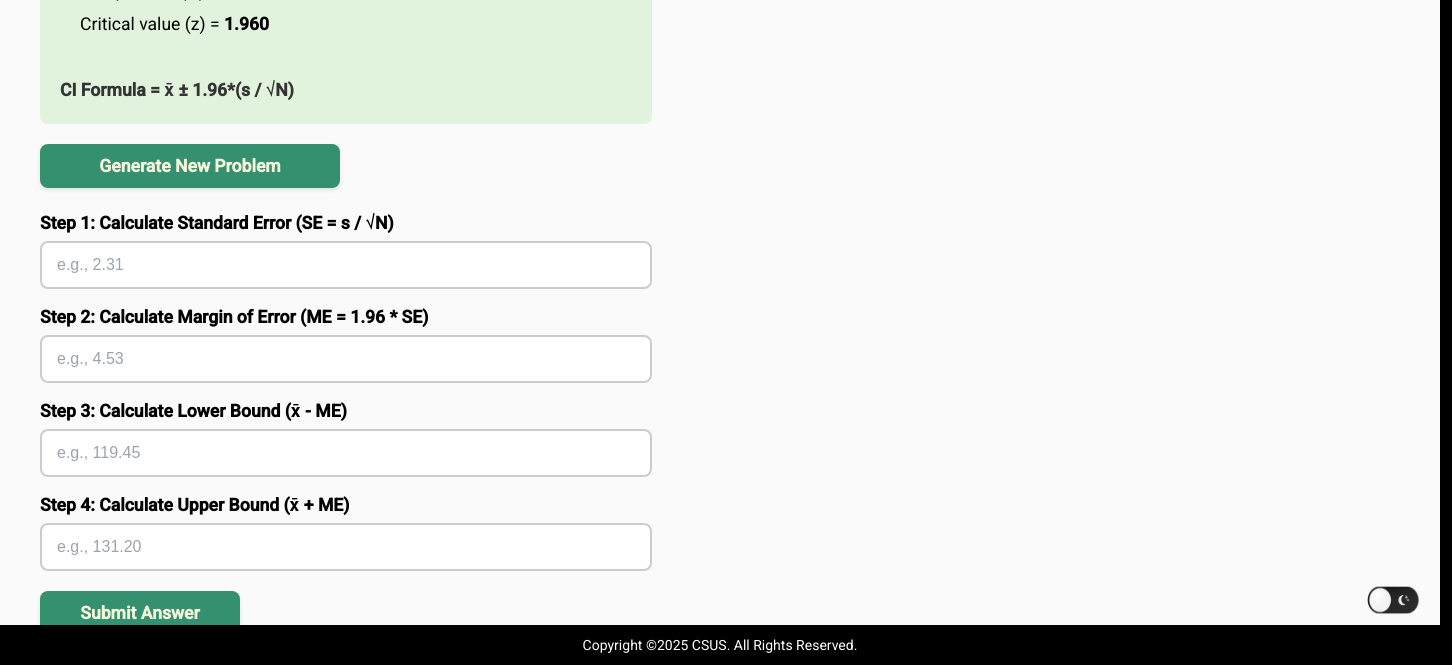
OMCI Homework Feature - UI Flow › should show feedback when an answer is submitted
This screenshot has width=1452, height=665.
(page scrolled)
Expected: the footer with class "static-footer" is shown, x1=0 y1=625 x2=1440 y2=664
Type a random answer
Type "123" into the 1st field with class "textbox" at {"x": 346, "y": 265}, box x1=40 y1=241 x2=652 y2=289
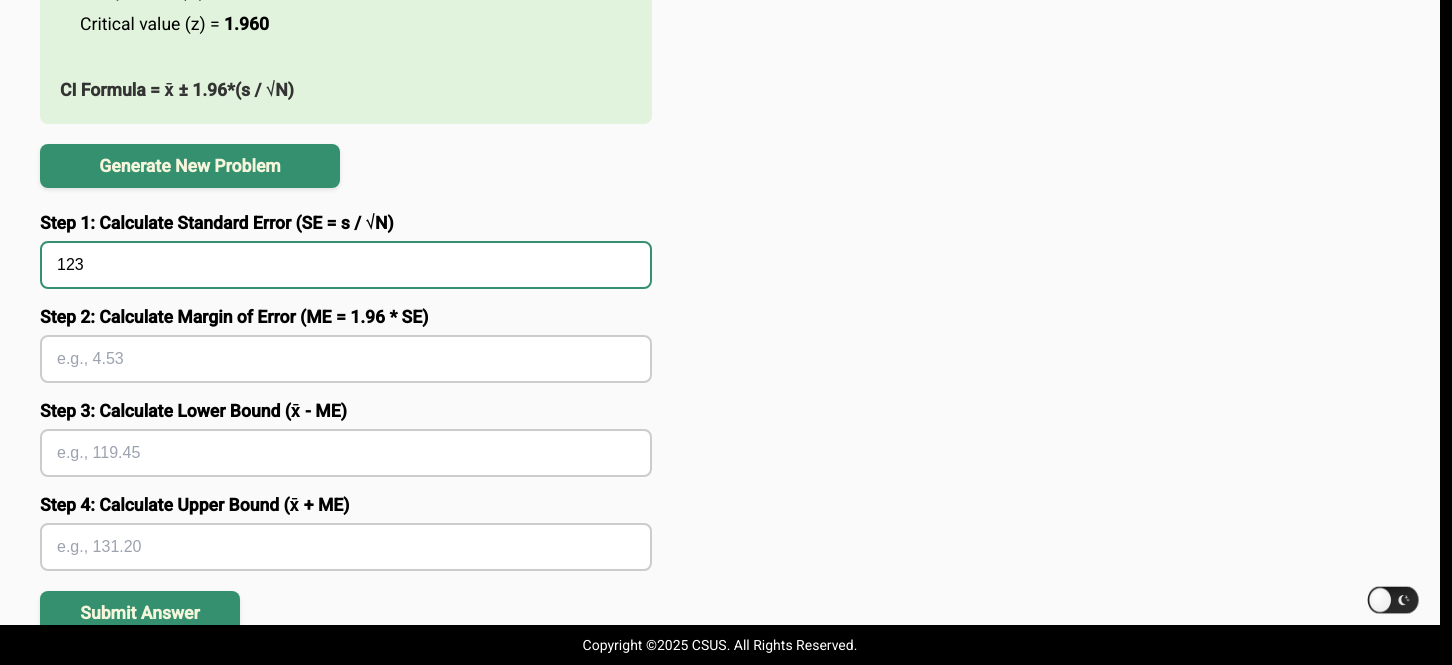
Click Submit
Click the button with class "submit-button" at {"x": 140, "y": 613}, box x1=40 y1=591 x2=240 y2=635
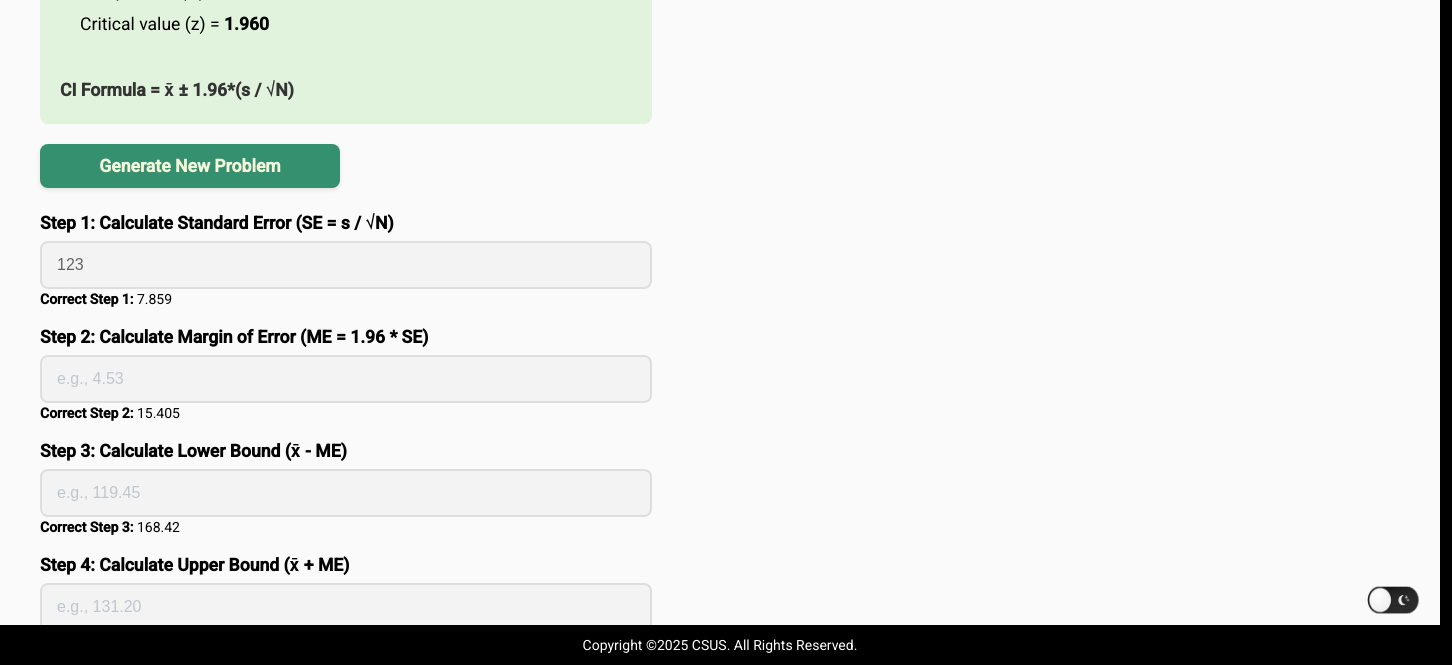
Now the button with class "submit-button" is gone
